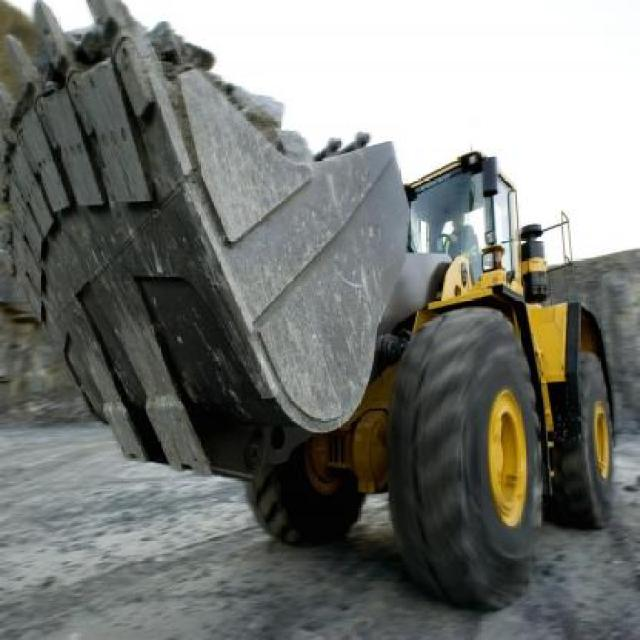buldozerpayloadergrader: (282, 114, 638, 591)
